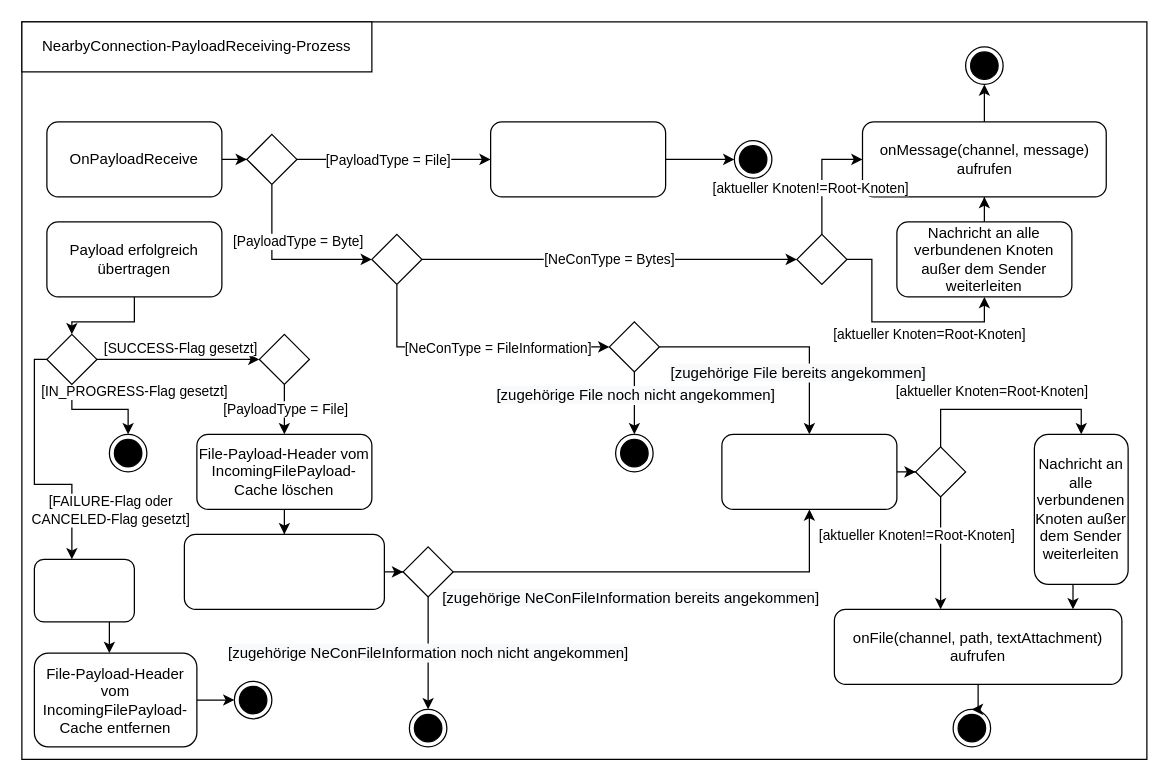
Image size: 1169x781. Some labels were removed from this diagram. Here are the shapes that lost their labels. From the top down, the centre of each, then its label:
the point at 577,159: Payload-Header als IncomingFilePayload zwischenspeichern
the point at 809,471: File umbennenen
the point at 83,590: File-Fragmente entfernen
the point at 283,571: File -Payload-Header in den completedFilePayload-Cache speichern
